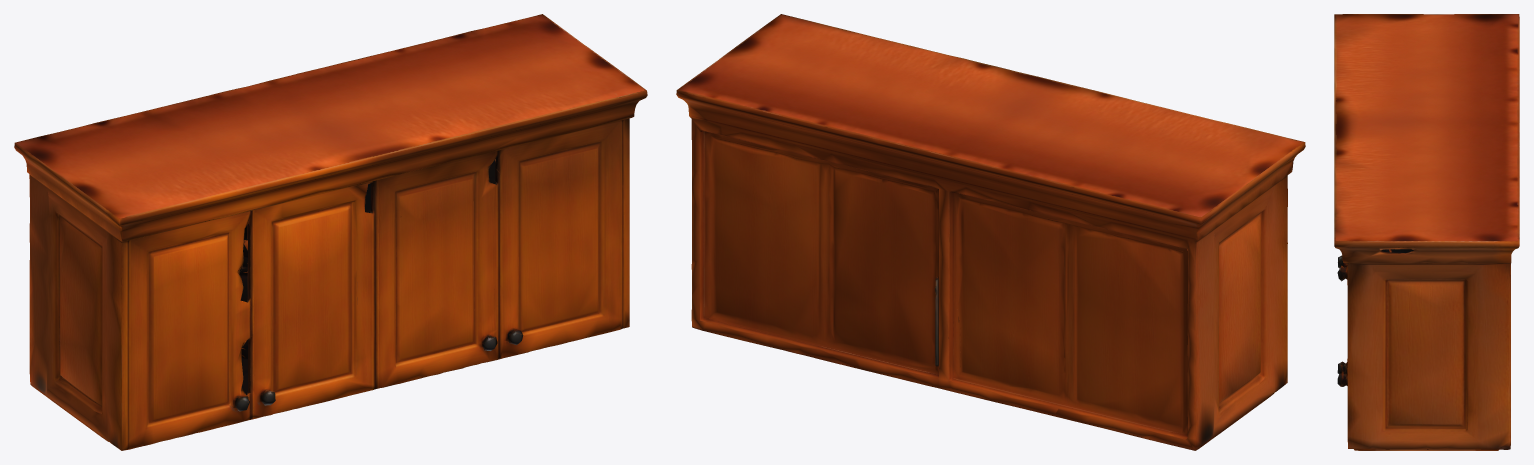
File: Meshy_AI_Wooden_Cabinet_Front_0108005920_texture.fbx
The picture shows the model from 3 angles, left to right: view 1: azimuth 30°, elevation 25°; view 2: azimuth 150°, elevation 25°; view 3: azimuth 270°, elevation 25°; orthographic projection. The views are drawn at different scales.
Parts seen in each view (by area): view 1: Mesh_0; view 2: Mesh_0; view 3: Mesh_0.
Boxes of the visible parts, x1,y1,x2,y2 form: Mesh_0: [14, 14, 647, 450]; Mesh_0: [676, 14, 1305, 450]; Mesh_0: [1334, 14, 1519, 450].
Size of the model in its own units: 191 by 84.35 by 65.83.
Materials: 1 (1 with a texture image).
